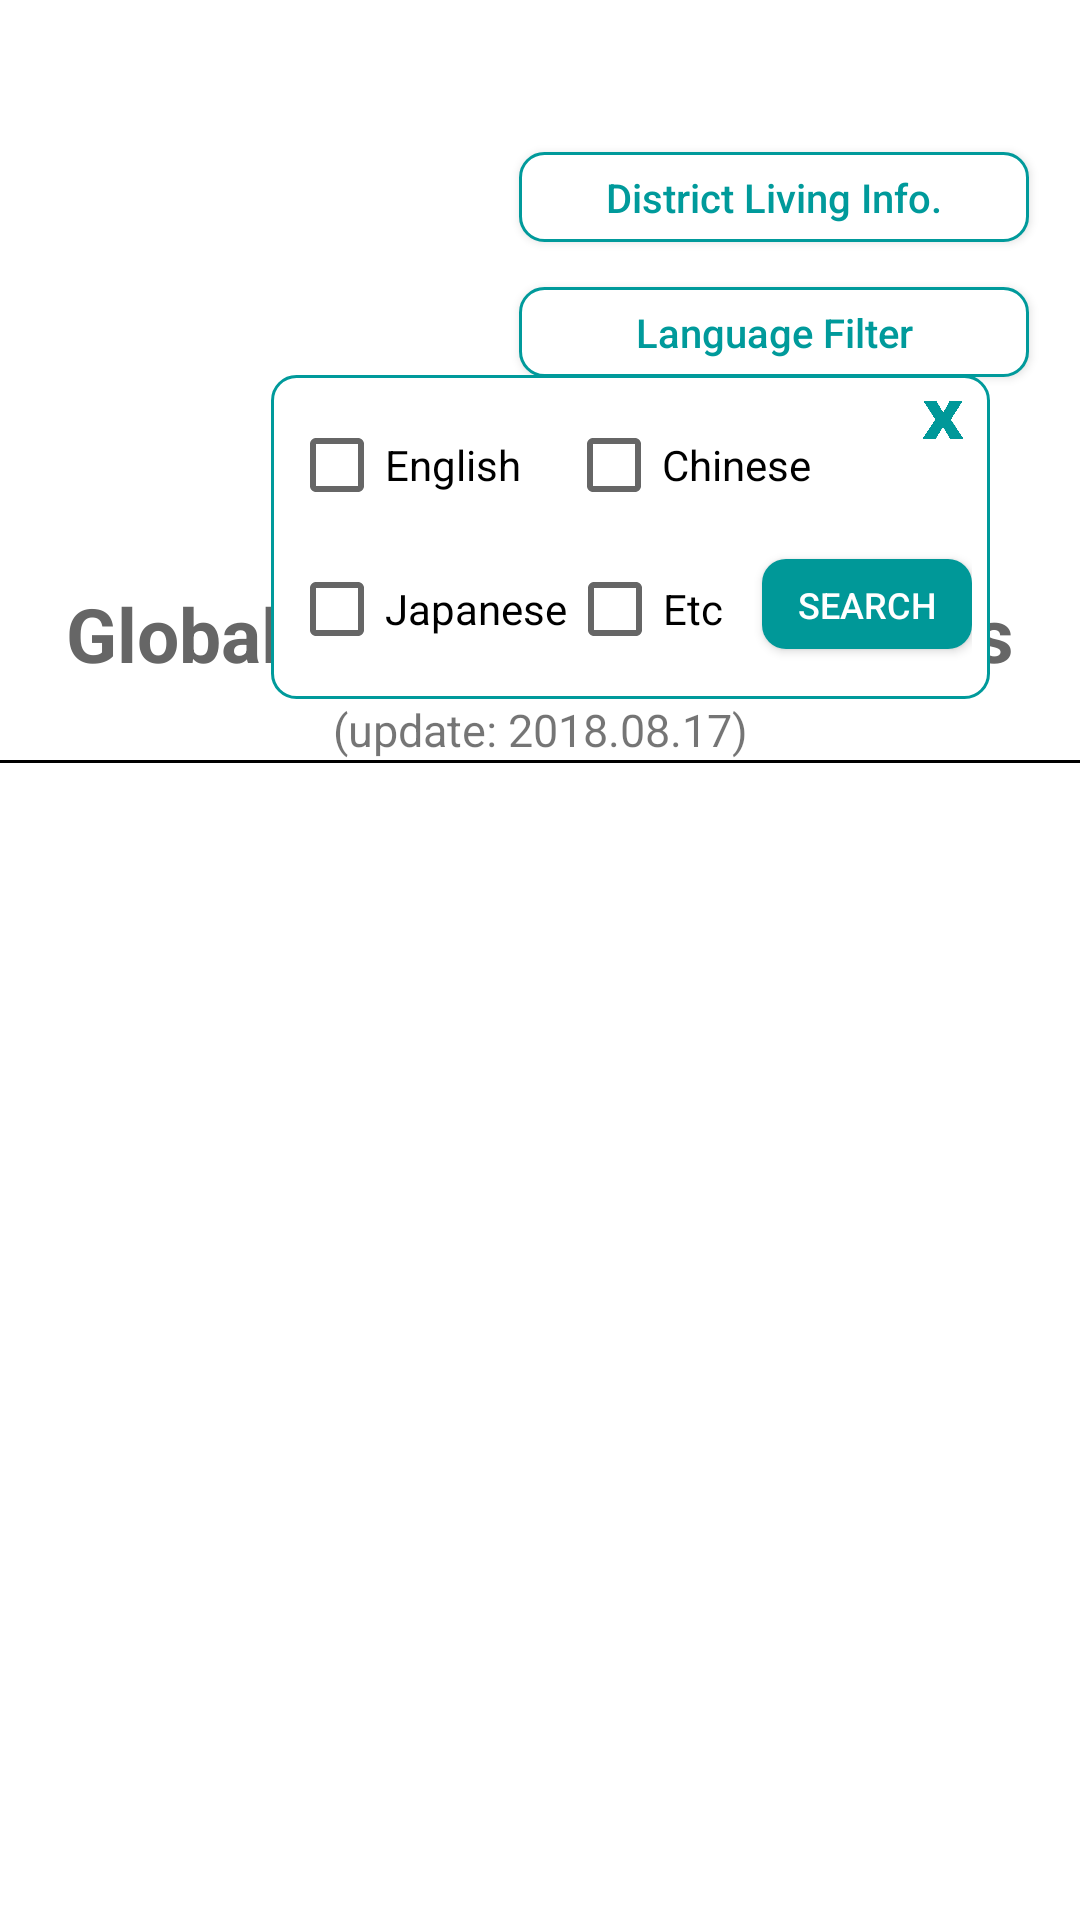

Named icons in this screenshot (1080*1920) and their bounding boxes, (x1, y1, x2, y2):
language invisible: (923, 401, 963, 439)
